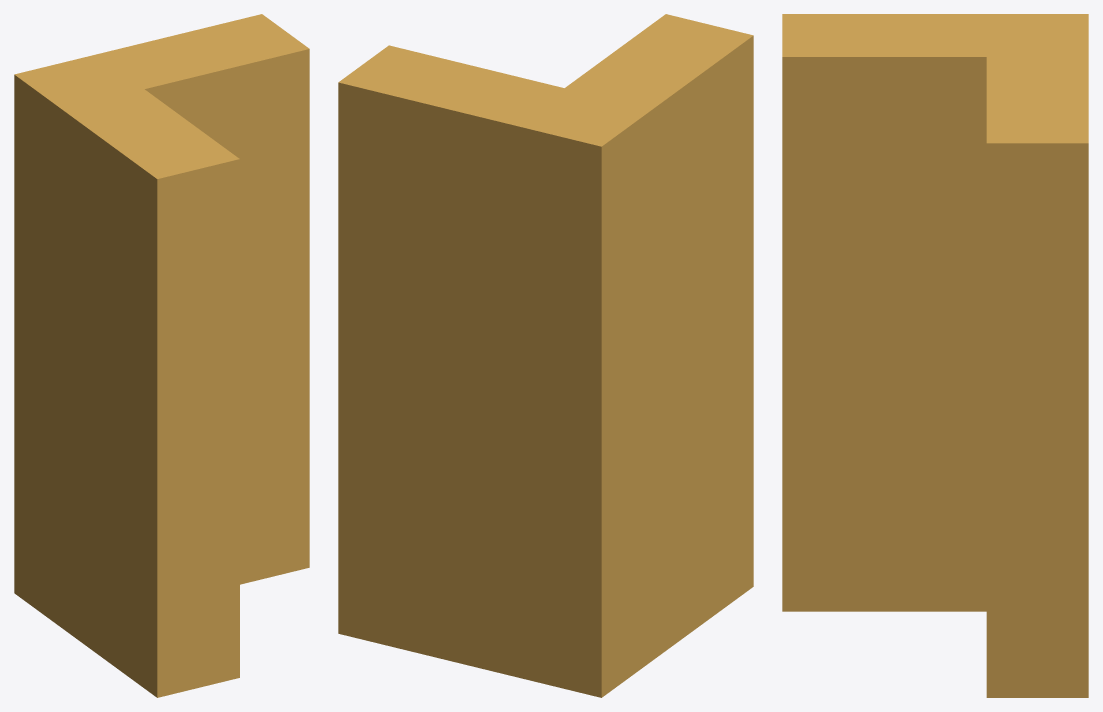
File: wallCorner.fbx
3 renders of one model, left to right at view 1: azimuth 30°, elevation 25°; view 2: azimuth 150°, elevation 25°; view 3: azimuth 270°, elevation 25°, orthographic. The views are drawn at different scales.
Visible parts, largest first — view 1: WallCorner; view 2: WallCorner; view 3: WallCorner.
Part boxes in pixels (box(x1,y1,x2,y2)): WallCorner: box(14, 14, 309, 697); WallCorner: box(338, 14, 753, 697); WallCorner: box(782, 14, 1088, 697).
Size of the model in its own units: 1.5 by 3 by 1.5.
